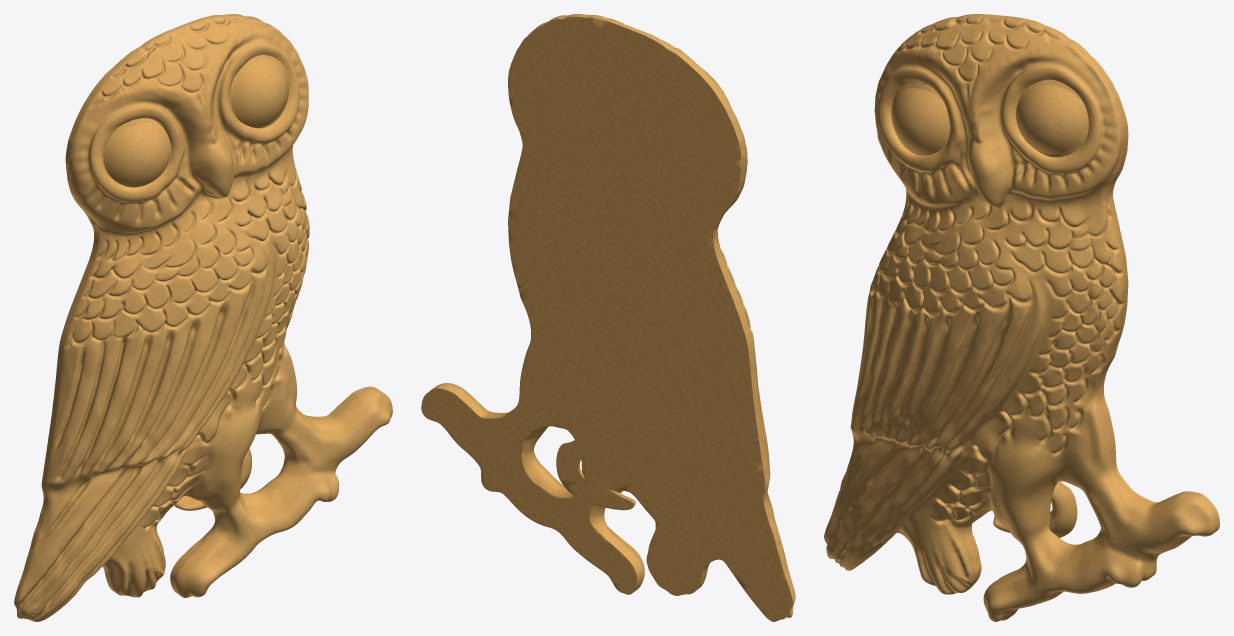
Rendered from owl.glb.
3 views of the same model, side by side, from view 1: azimuth 30°, elevation 25°; view 2: azimuth 150°, elevation 25°; view 3: azimuth 330°, elevation 25° (orthographic). The views are drawn at different scales.
Visible parts, largest first — view 1: Mesh_0.003; view 2: Mesh_0.003; view 3: Mesh_0.003.
Boxes of the visible parts, x1,y1,x2,y2 form: Mesh_0.003: [14, 14, 392, 621]; Mesh_0.003: [421, 14, 795, 621]; Mesh_0.003: [824, 14, 1219, 621].
Size of the model in its own units: 0.0171 by 0.025 by 0.00285.
Materials: 1 (1 with a texture image).
